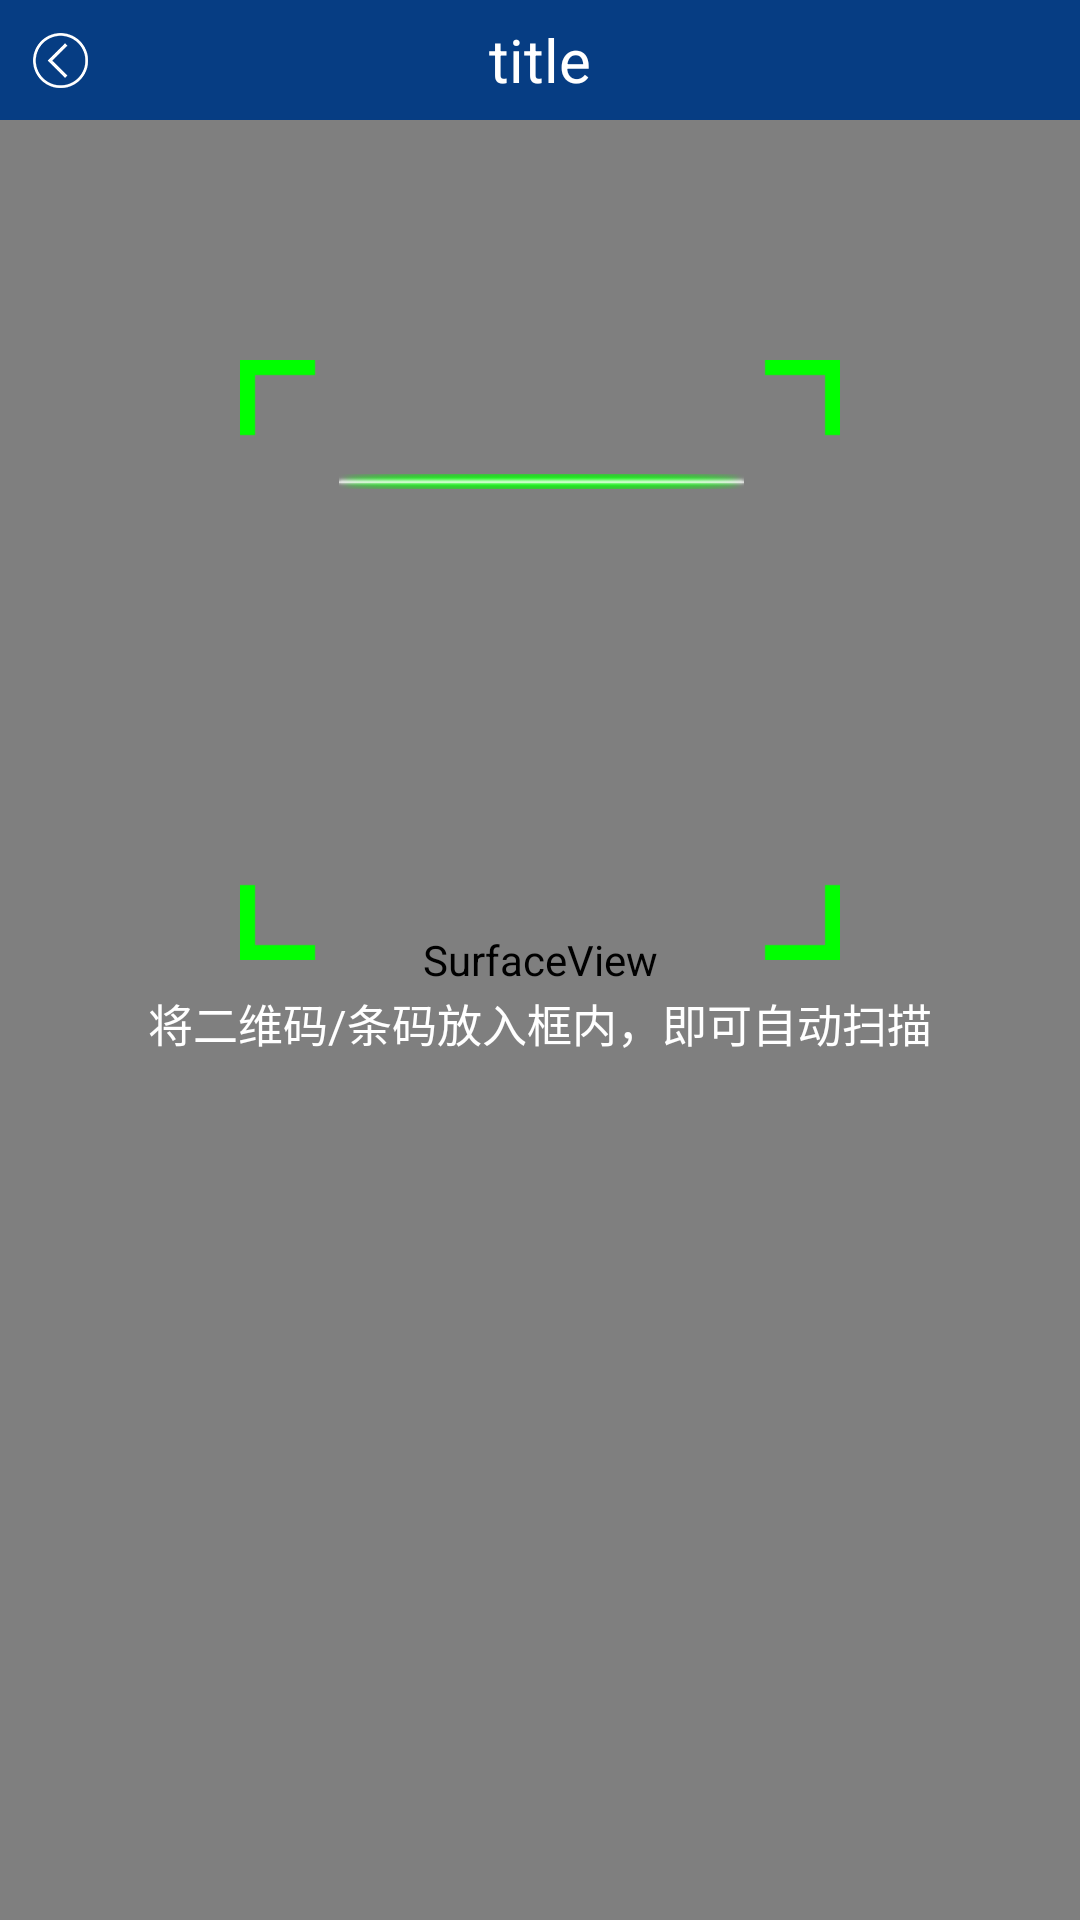

Named icons in this screenshot (1080*1920) and their centers, [x,y]:
cancle: [60,60]
